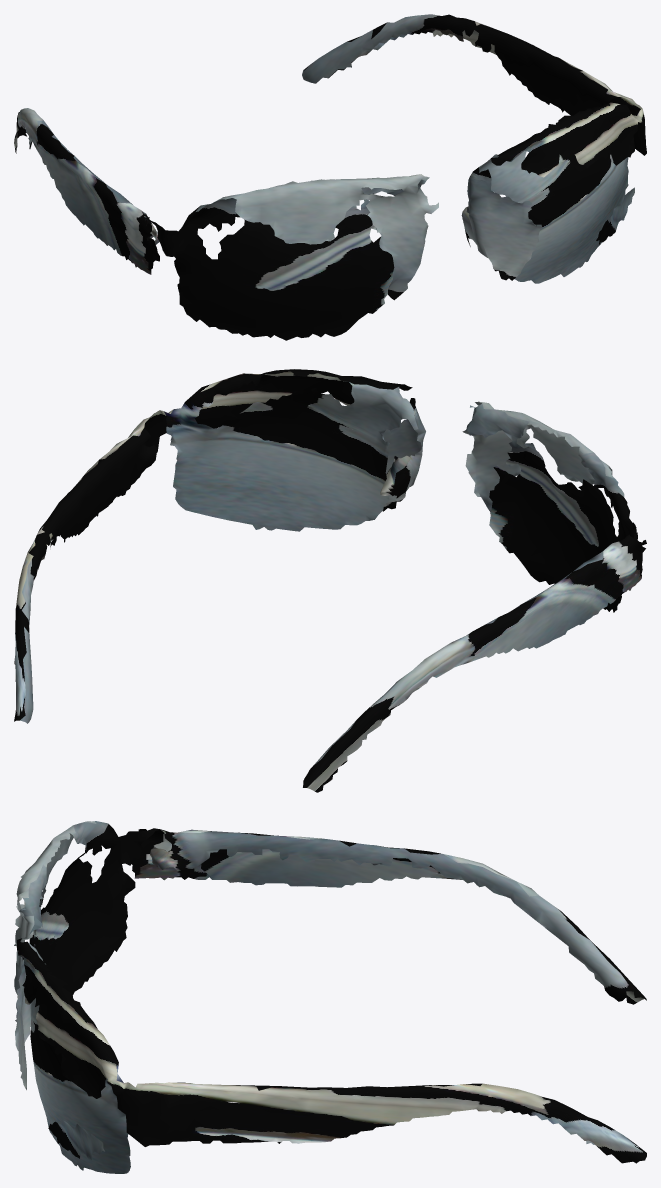
The model's file is scan_align.obj.
3 views of the same model, one above another, from view 1: azimuth 30°, elevation 25°; view 2: azimuth 150°, elevation 25°; view 3: azimuth 270°, elevation 25° (orthographic). The views are drawn at different scales.
Size of the model in its own units: 0.144 by 0.0442 by 0.1458.
